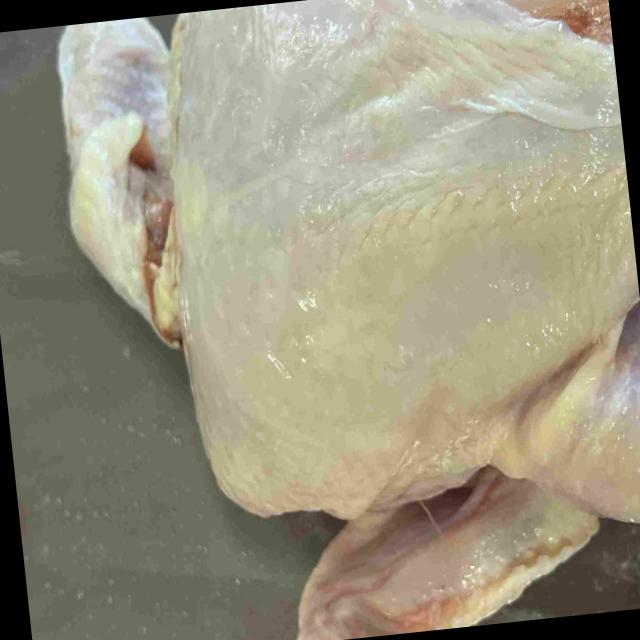breast: (173, 0, 640, 514)
leg: (506, 292, 640, 511)
neck: (63, 16, 173, 348)
wing: (292, 458, 594, 640)
